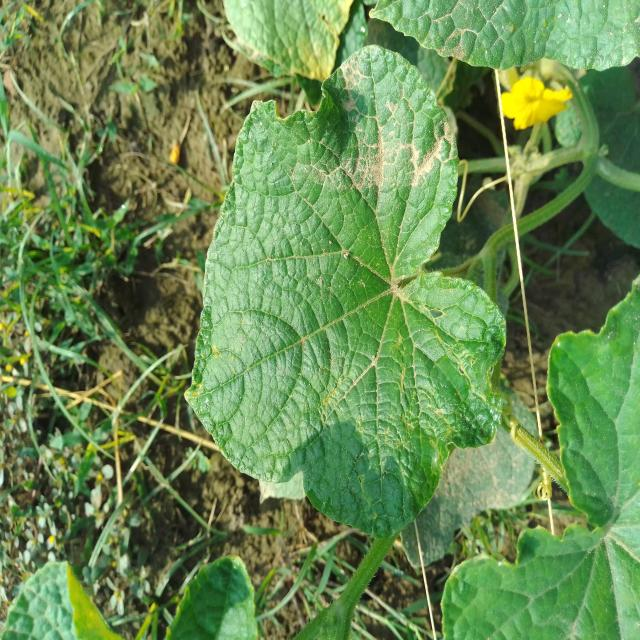cucumber_healthy: (180, 42, 520, 534), (438, 270, 640, 640), (366, 0, 640, 74), (0, 554, 121, 640), (163, 542, 262, 640)
